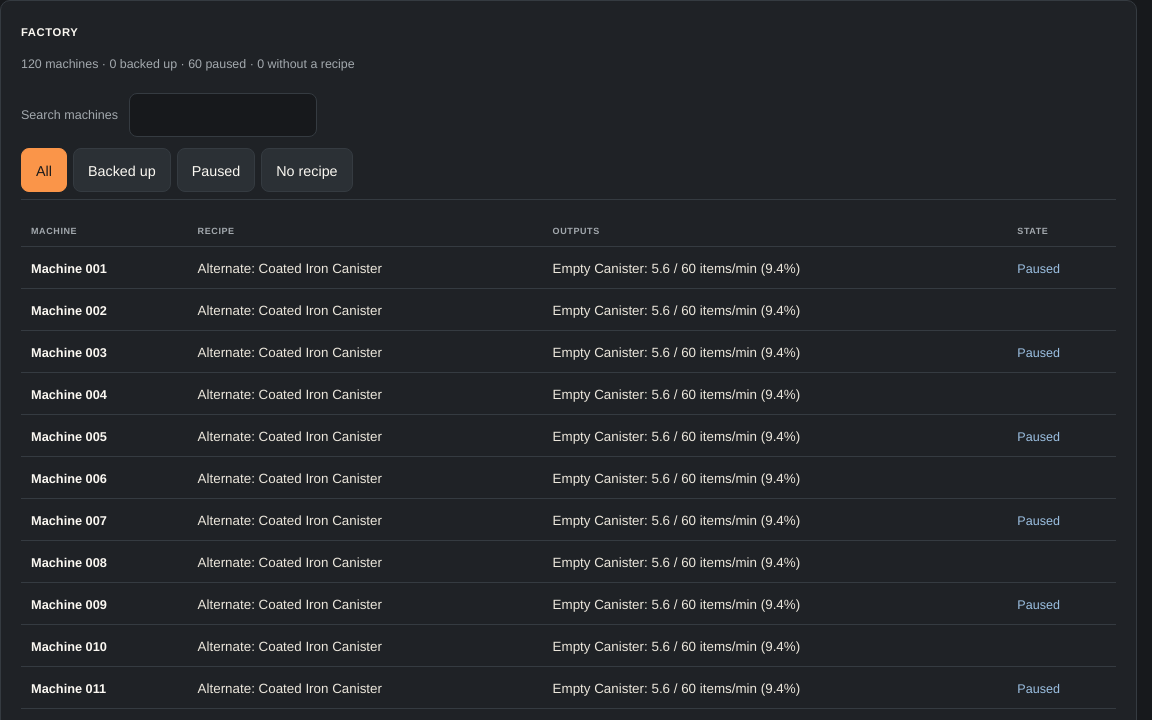
Test: FactoryPanel row cap (ADR-0062 F.5) › caps the filtered list, not the whole one: Paused over 50 still shows 50
Click the button "Paused": (216, 170) [177,148,255,192]
(page scrolled)
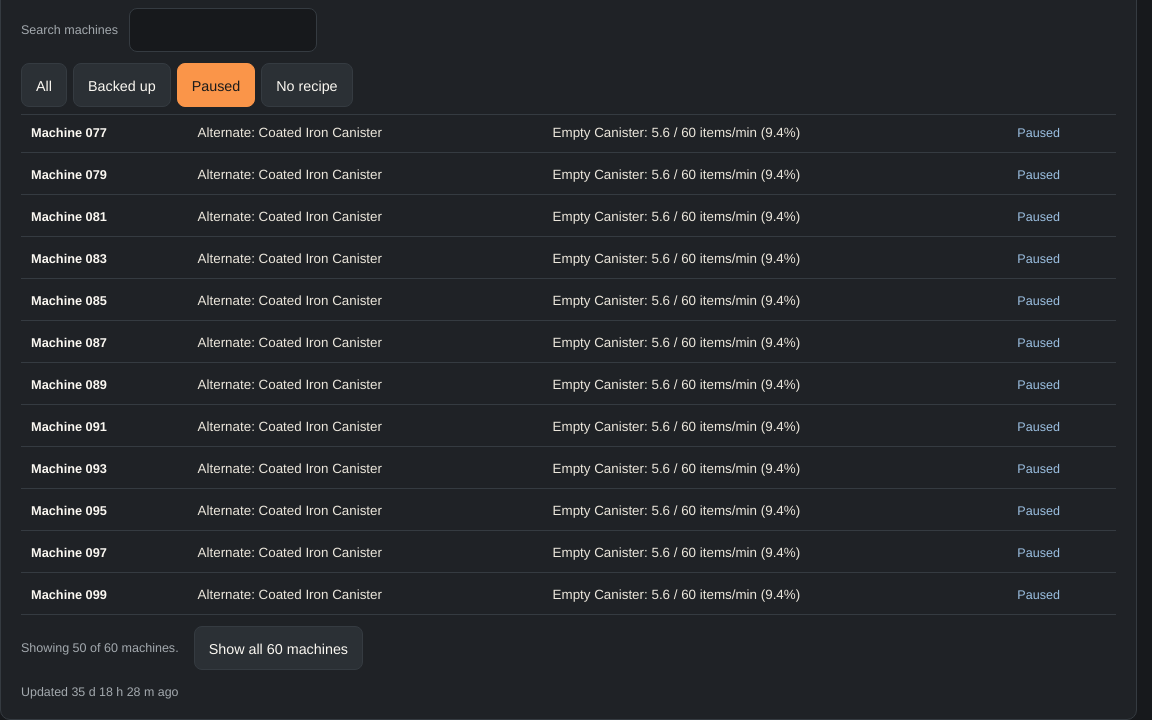
Expected: the column heading "Machine 099" is shown, [21,572,188,614]
